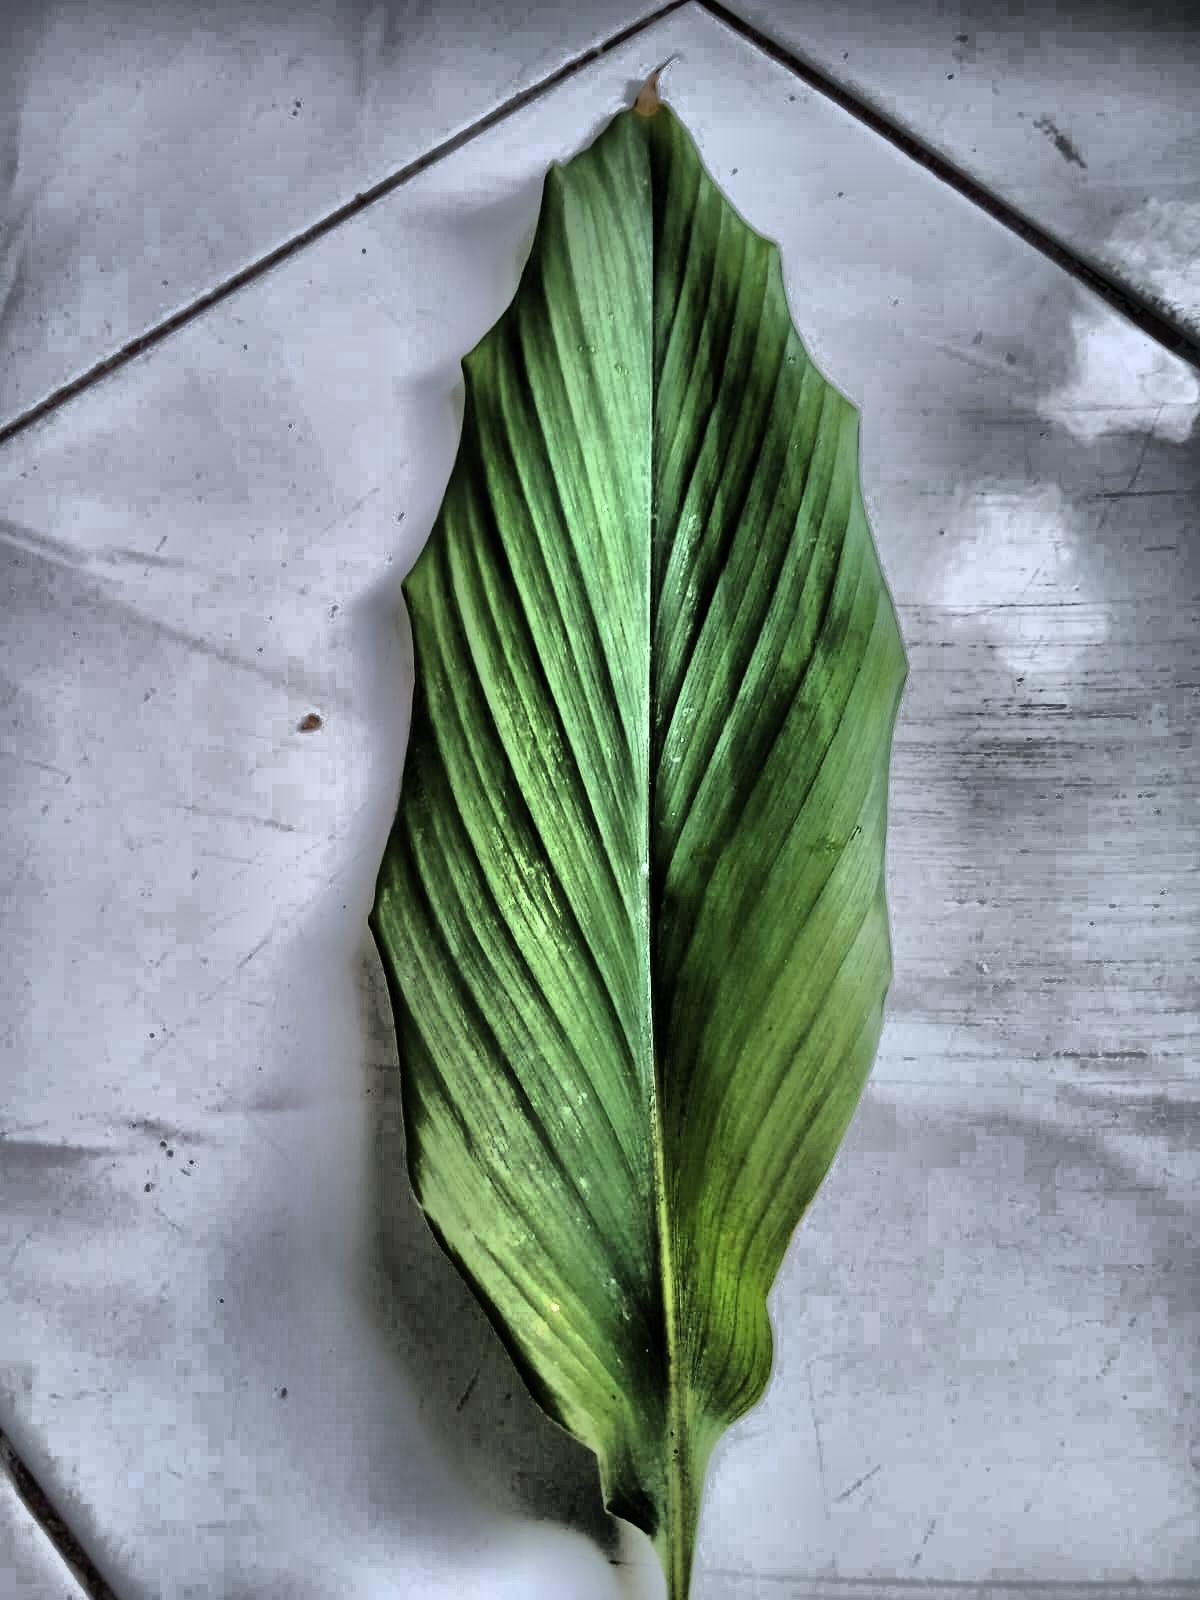daun kunyit: (371, 83, 905, 1599)
